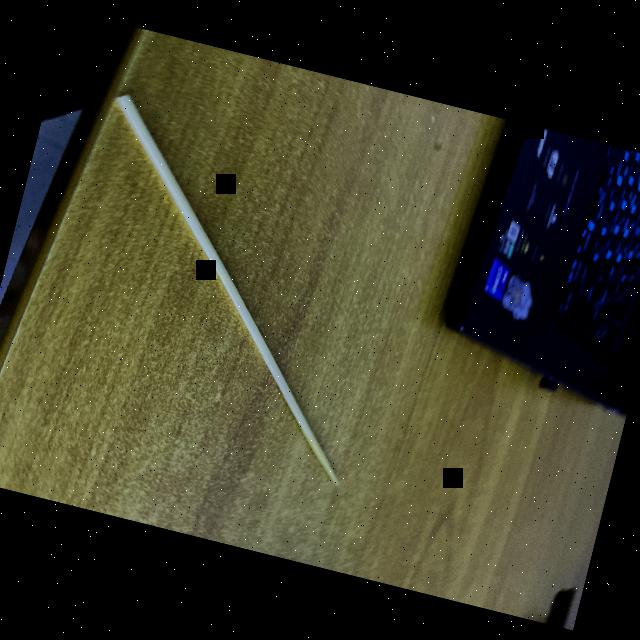stick: (19, 75, 432, 501)
